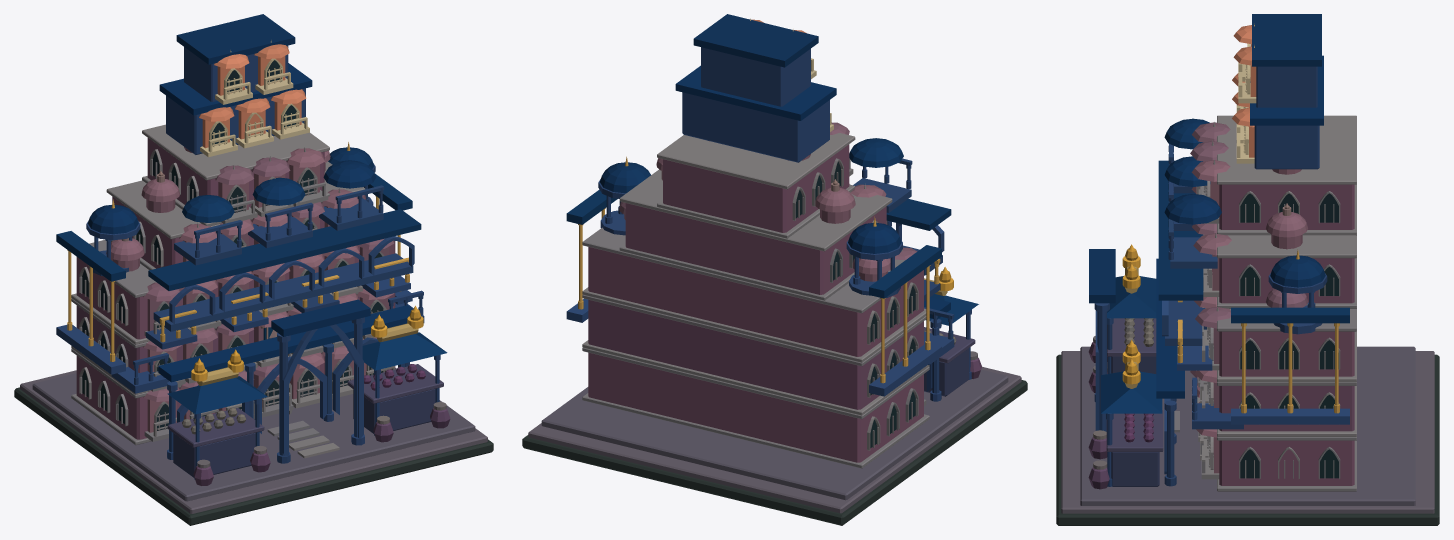
The picture shows the model from 3 angles, left to right: view 1: azimuth 30°, elevation 25°; view 2: azimuth 150°, elevation 25°; view 3: azimuth 270°, elevation 25°; orthographic projection. The views are drawn at different scales.
Parts seen in each view (by area): view 1: market_L12_0, market_L12_1; view 2: market_L12_0, market_L12_1; view 3: market_L12_0, market_L12_1.
Part boxes in pixels (left/top/right/bottom): market_L12_0: left=14, top=14, right=493, bottom=525; market_L12_1: left=67, top=142, right=423, bottom=381; market_L12_0: left=522, top=14, right=1027, bottom=525; market_L12_1: left=578, top=156, right=953, bottom=383; market_L12_0: left=1056, top=14, right=1439, bottom=525; market_L12_1: left=1122, top=203, right=1339, bottom=413.
Bounding box in the file's own units: 5.6 × 6.64 × 5.6.
